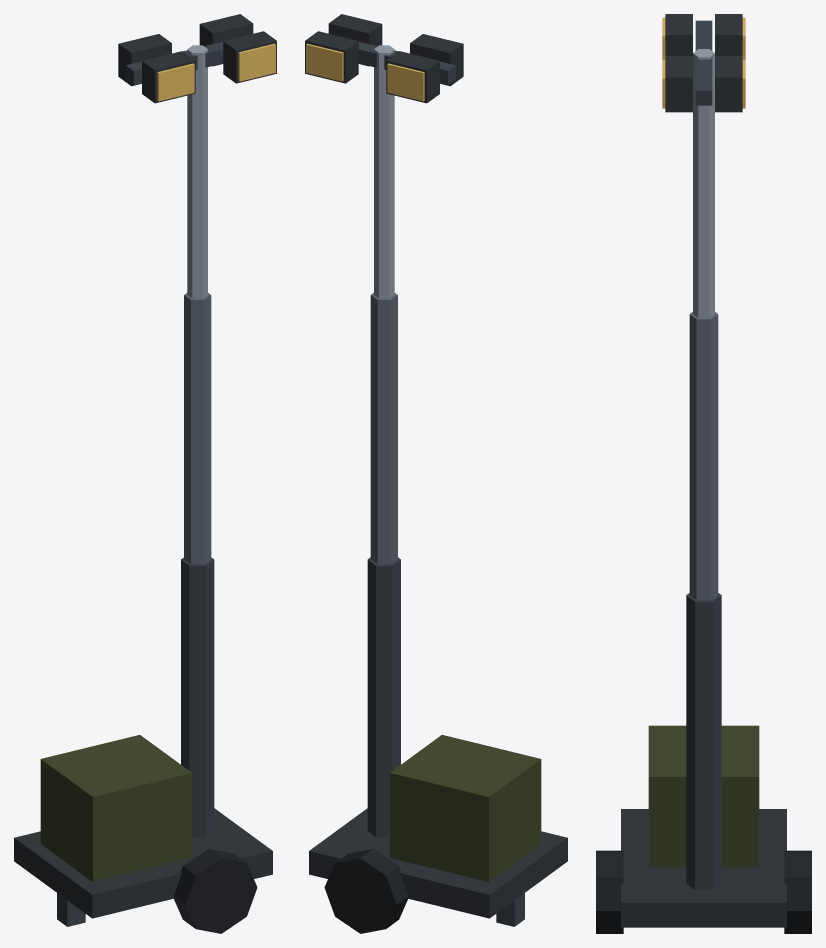
File: prop_light_tower.fbx
3 views of the same model, side by side, from view 1: azimuth 30°, elevation 25°; view 2: azimuth 150°, elevation 25°; view 3: azimuth 270°, elevation 25° (orthographic). The views are drawn at different scales.
Visible parts, largest first — view 1: prop_light_tower; view 2: prop_light_tower; view 3: prop_light_tower.
Part boxes in pixels (x1,y1,x2,y2): prop_light_tower: (14,14,276,933); prop_light_tower: (305,14,567,933); prop_light_tower: (596,14,811,933).
Size of the model in its own units: 470 by 1795 by 390.
